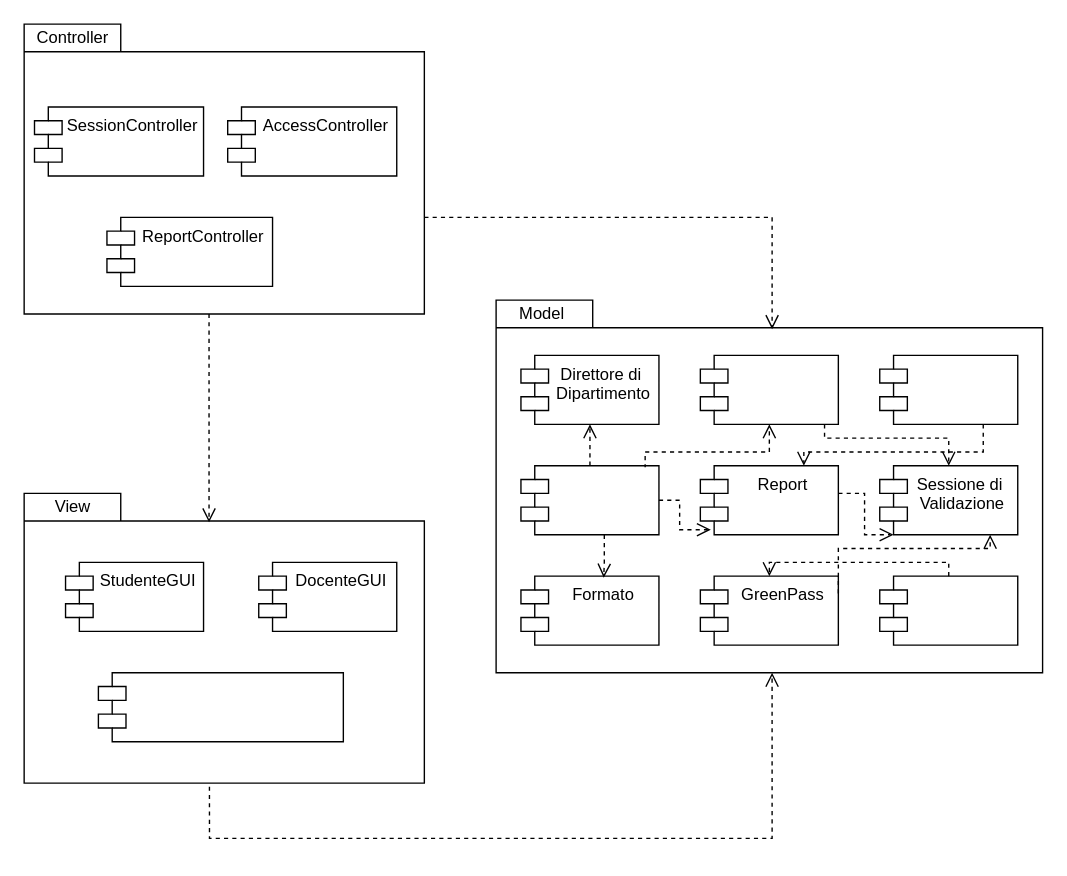
The diagram is 1067 pixels wide and 876 high, and some of its shapes have lost their labels. The centre of each missing label's shape, as x and y in pixels:
"Dipartimento" belongs at (589,499).
"DirettoreDiDipartimentoGUI" belongs at (220,706).
"Docente" belongs at (768,389).
"Esito" belongs at (948,389).
"Studente" belongs at (948,610).
